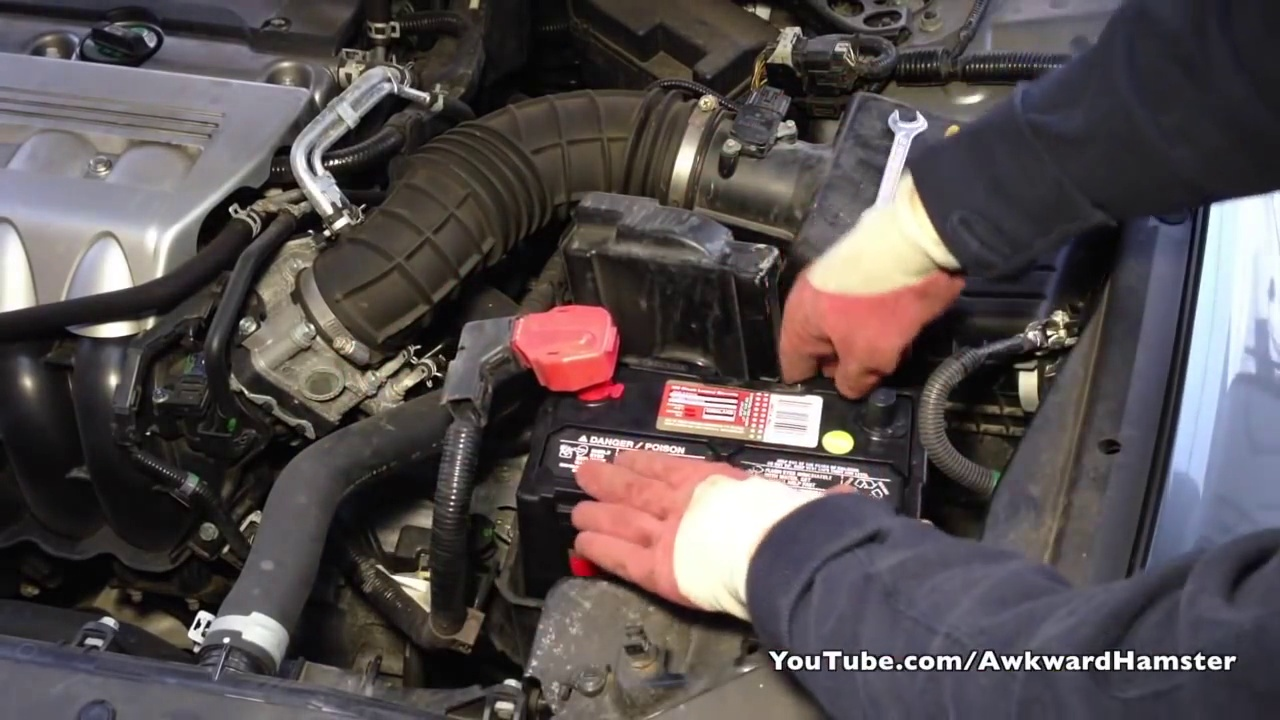battery: (509, 355, 915, 547)
pos_connected: (449, 284, 642, 402)
